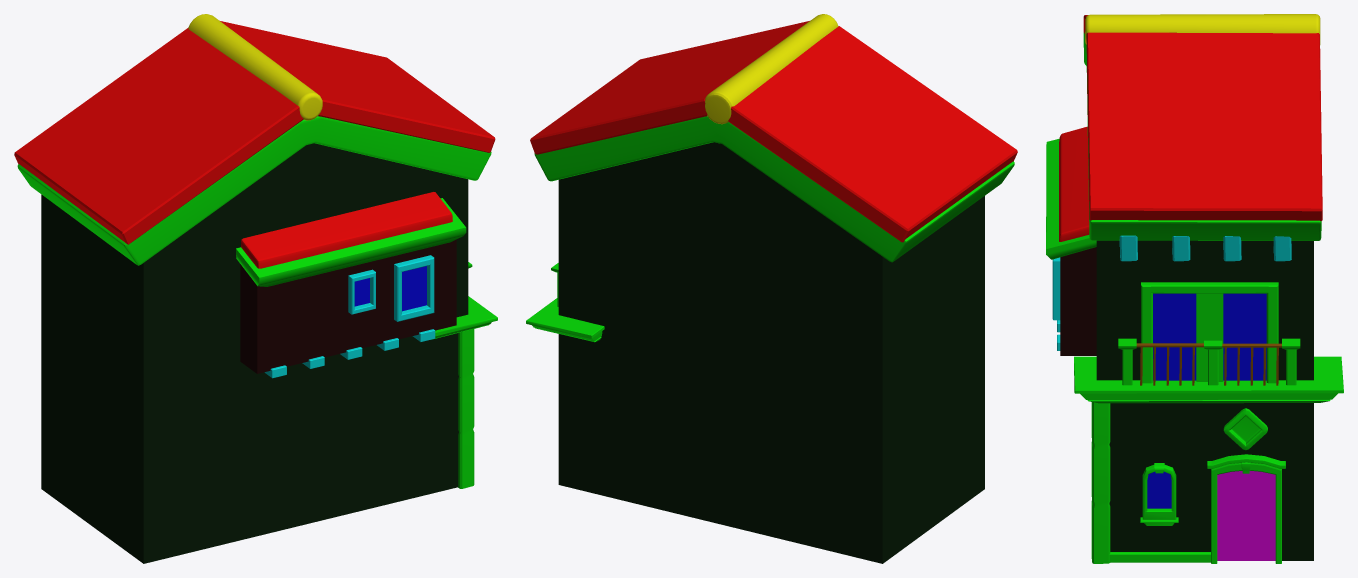
Rendered from blueBuilding Unity.fbx.
The picture shows the model from 3 angles, left to right: view 1: azimuth 30°, elevation 25°; view 2: azimuth 150°, elevation 25°; view 3: azimuth 270°, elevation 25°; orthographic projection. The views are drawn at different scales.
Parts seen in each view (by area): view 1: blueBuildingUnity; view 2: blueBuildingUnity; view 3: blueBuildingUnity.
Part boxes in pixels (x1,y1,x2,y2): blueBuildingUnity: (14, 14, 497, 563); blueBuildingUnity: (526, 14, 1017, 563); blueBuildingUnity: (1046, 14, 1343, 563).
Bounding box in the file's own units: 11.88 × 13.08 × 7.64.
